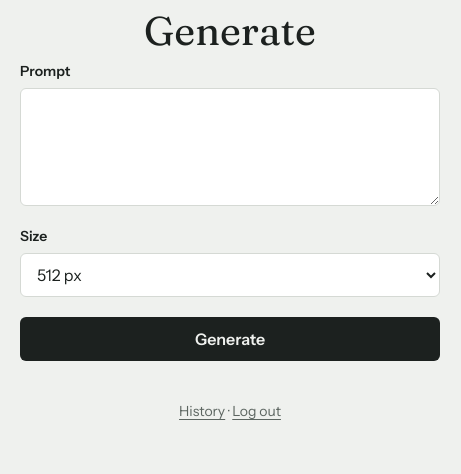
Test: submitting › says so when the user already has an image in progress
The image size is (461, 474).
Type "a red fox in fresh snow" into the text box labelled "Prompt" at [230, 147], box x1=20 y1=88 x2=440 y2=206
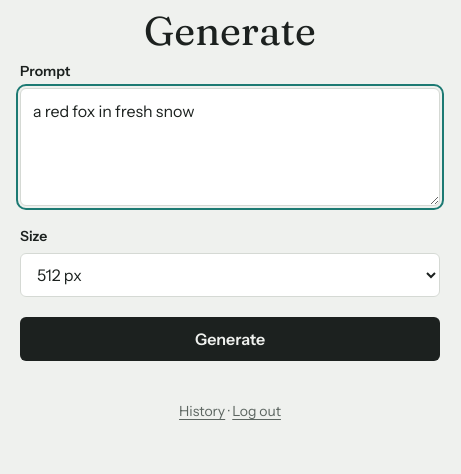
Click the button "Generate" at [230, 339], box x1=20 y1=317 x2=440 y2=361
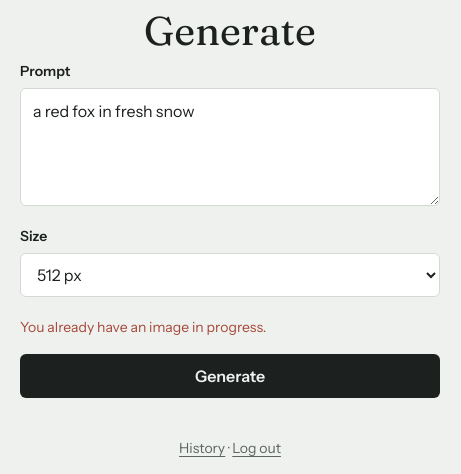
Check: the message reads "You already have an image in progress.", box x1=20 y1=318 x2=266 y2=336
